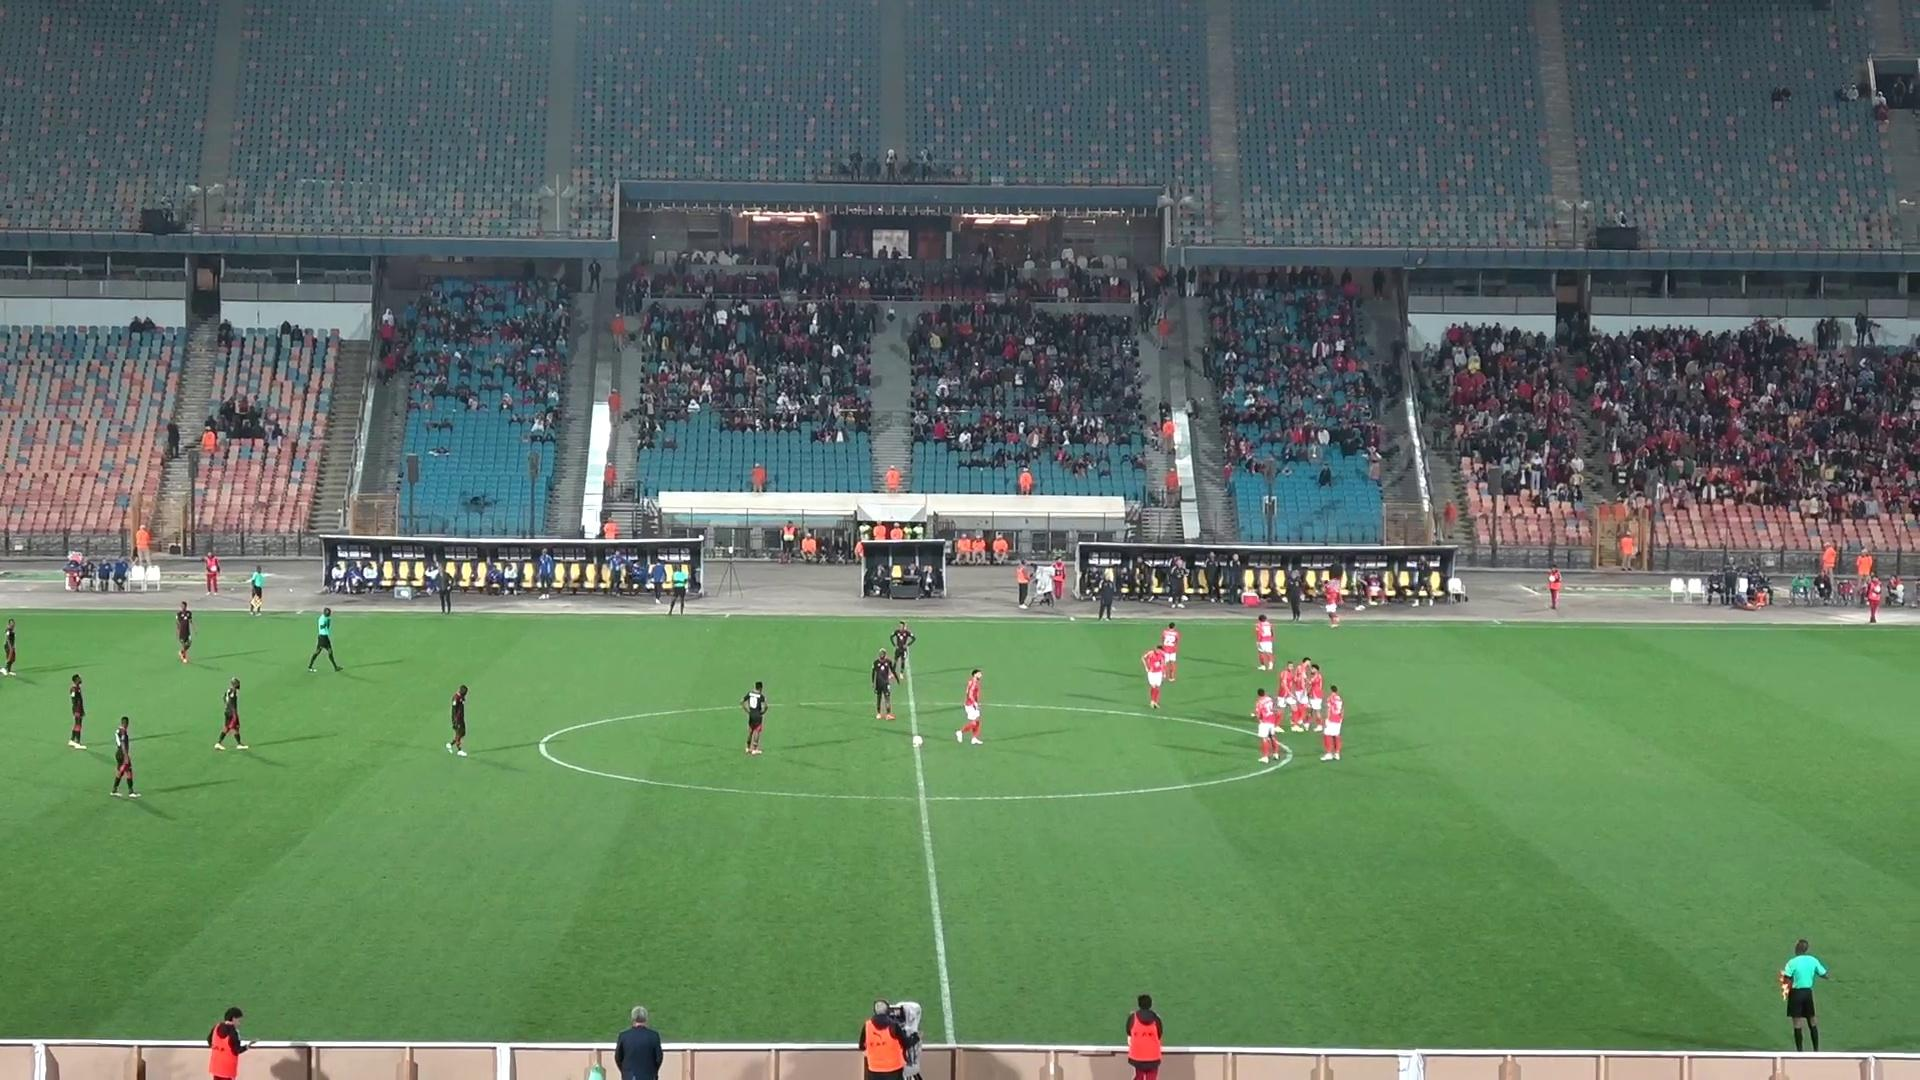Ball: (911, 735, 924, 746)
Refree: (1778, 939, 1828, 1051), (307, 607, 342, 670), (661, 563, 702, 615), (245, 564, 272, 615)
Team1: (1253, 688, 1288, 762), (1313, 686, 1346, 760), (1141, 644, 1178, 708), (955, 669, 982, 744), (1275, 663, 1302, 731), (1294, 657, 1316, 731), (1303, 658, 1331, 713), (1317, 571, 1342, 626), (1251, 616, 1276, 670), (1158, 622, 1180, 682)
Team2: (869, 647, 905, 719), (214, 676, 247, 749), (109, 716, 138, 796), (738, 682, 769, 754), (444, 684, 468, 756), (66, 674, 88, 749), (889, 622, 916, 678), (175, 601, 194, 663), (0, 617, 18, 676)
